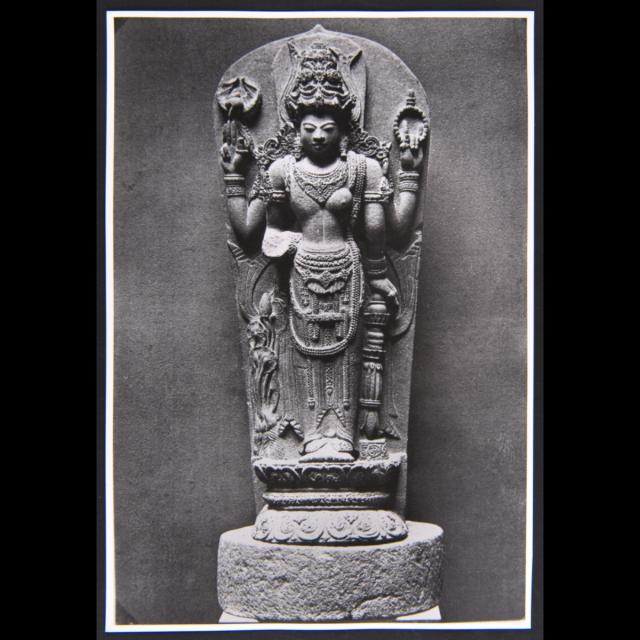buddha-standing: (217, 48, 428, 460)
